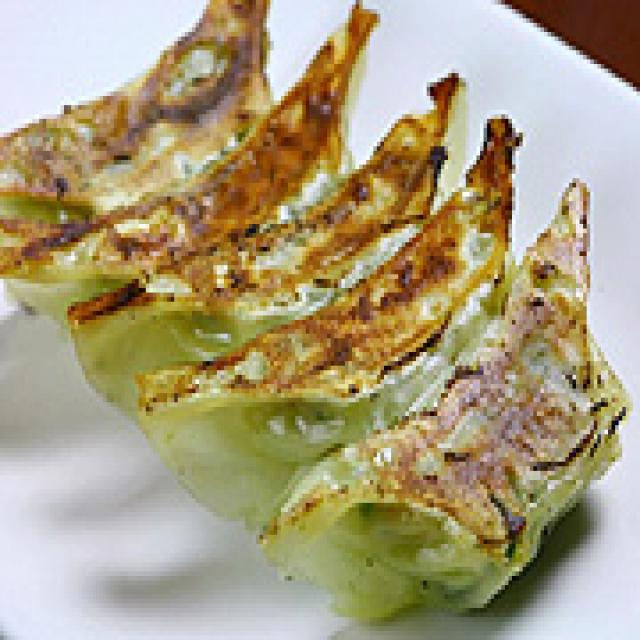带馅早点: (0, 0, 622, 594)
